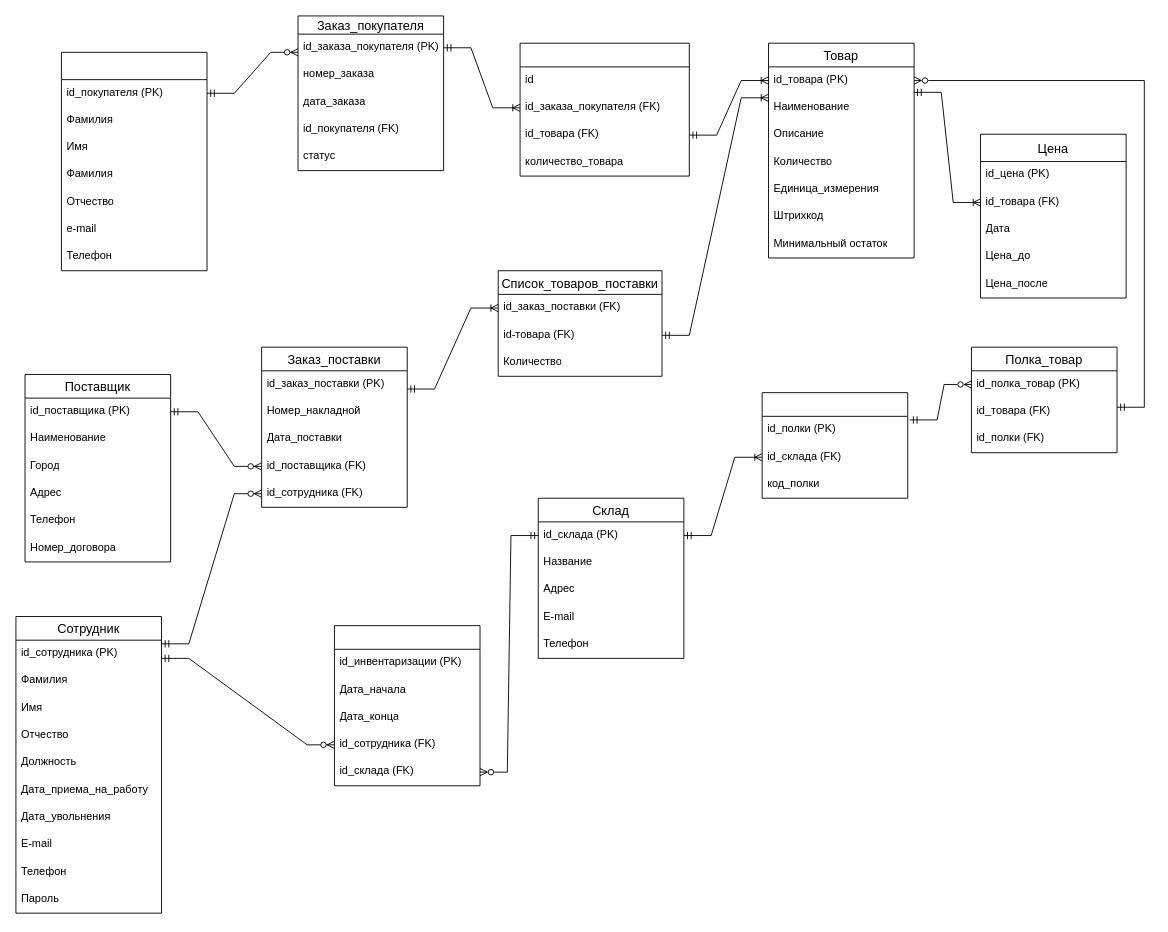
The diagram is 1168 pixels wide and 932 high, and some of its shapes have lost their labels. The box of each missing label's shape, as (x1, y1, x2, y2) in pixels:
Заказ_покупателя_товар: (519, 42, 689, 176)
Инвентаризация: (334, 625, 480, 786)
Покупатель: (61, 51, 207, 271)
Полка: (761, 392, 908, 498)
